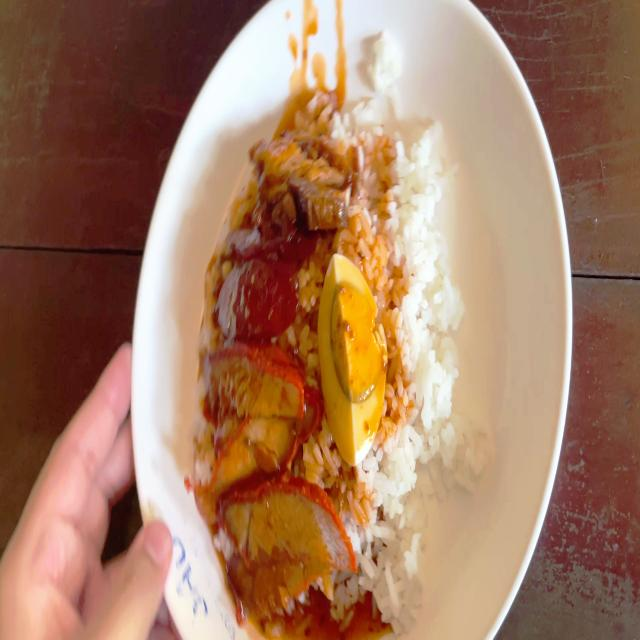boiled_egg: (322, 258, 383, 461)
chainese_sausage: (218, 227, 312, 339)
crispy_pork: (246, 122, 362, 224)
red_pork: (205, 347, 341, 608)
red_pork_and_crispy_pork: (207, 106, 468, 628)
rice: (381, 140, 457, 487)
